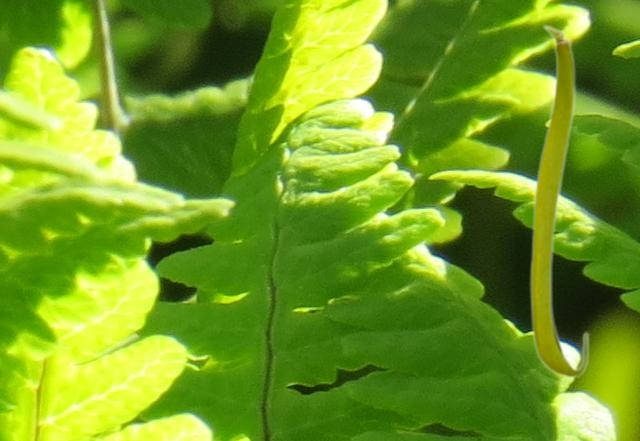french_bean: (528, 23, 589, 378)
